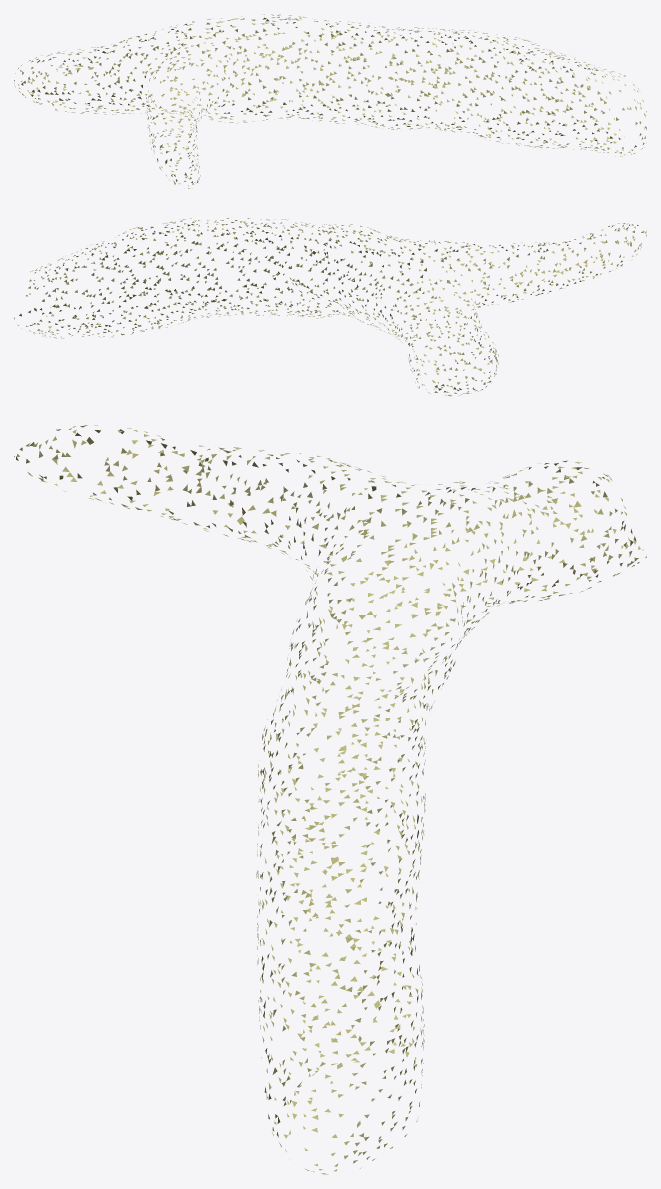
Rendered from morph_009.glb.
3 views of the same model, one above another, from view 1: azimuth 30°, elevation 25°; view 2: azimuth 150°, elevation 25°; view 3: azimuth 270°, elevation 25° (orthographic). The views are drawn at different scales.
Size of the model in its own units: 112 by 39.7 by 66.39.
